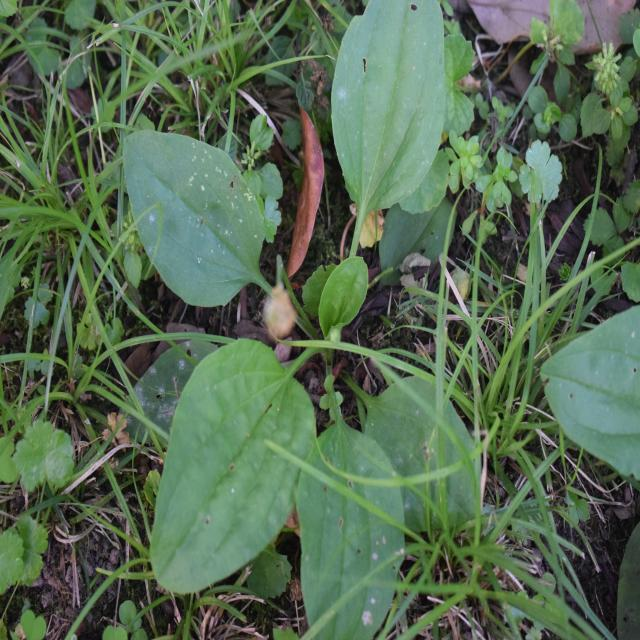plantain: (123, 20, 490, 604)
